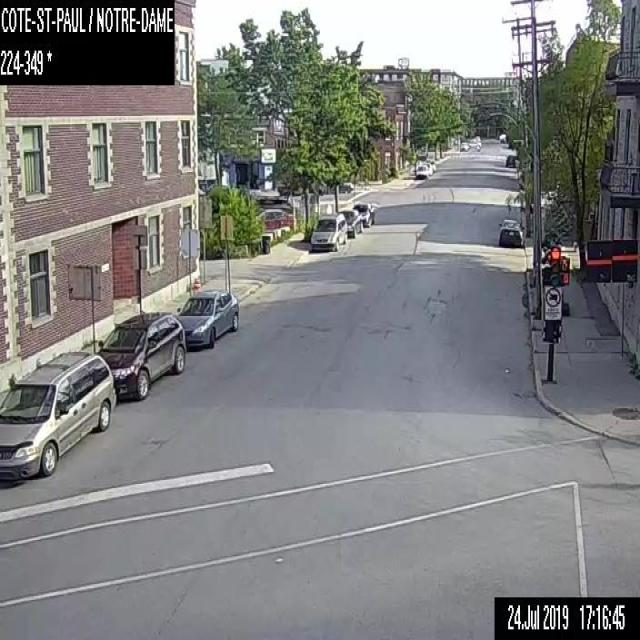vehicle: (0, 350, 116, 482), (96, 311, 185, 399), (176, 288, 239, 350), (310, 212, 347, 251), (497, 218, 524, 247), (337, 208, 362, 237), (254, 208, 292, 227), (352, 202, 374, 227), (414, 164, 428, 178), (338, 181, 352, 192), (421, 162, 432, 174), (505, 154, 515, 165), (427, 160, 436, 171), (459, 141, 468, 150)
